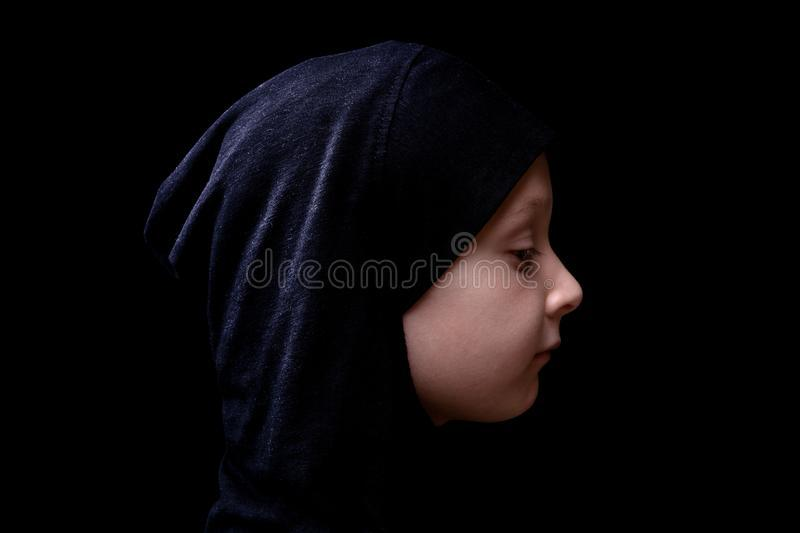No Mask: (348, 97, 658, 460)
